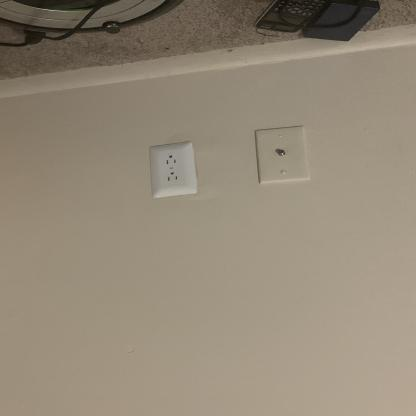OUTLET: (150, 144, 196, 199)
